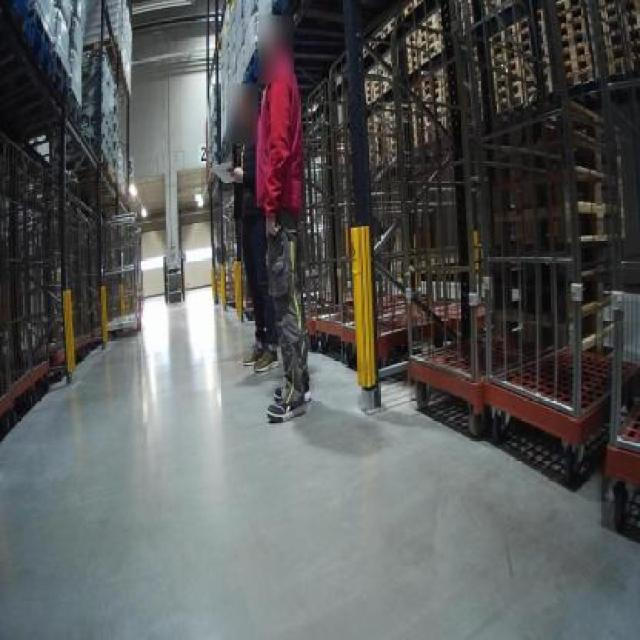ground: (0, 281, 638, 638)
pallet: (486, 99, 629, 242), (485, 0, 638, 112), (363, 0, 452, 115), (369, 62, 455, 172), (576, 243, 621, 357)
